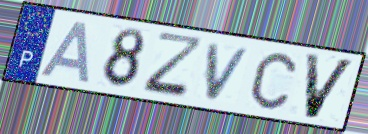8: (98, 26, 145, 91)
A: (37, 19, 93, 85)
C: (248, 51, 298, 112)
V: (303, 51, 359, 121), (204, 41, 254, 103)
Z: (140, 30, 207, 102)
